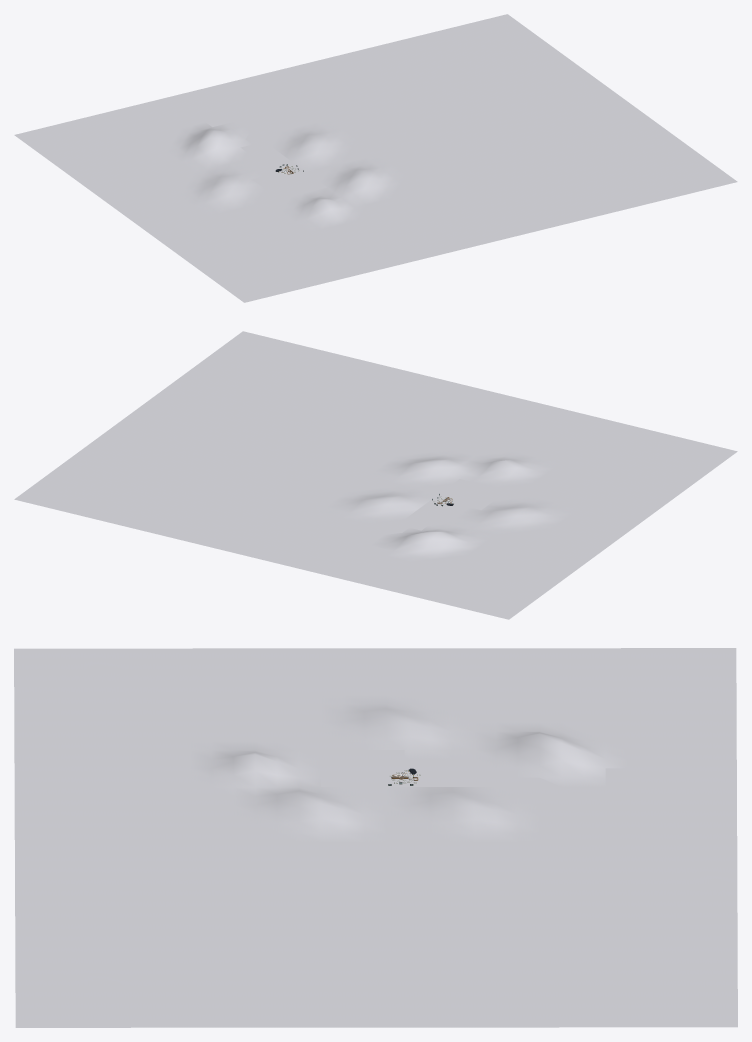
The picture shows the model from 3 angles, top to bottom: view 1: azimuth 30°, elevation 25°; view 2: azimuth 150°, elevation 25°; view 3: azimuth 270°, elevation 25°; orthographic projection. The views are drawn at different scales.
Parts seen in each view (by area): view 1: Frigid_Freezeway-SKP--FF_MainRoad.005; view 2: Frigid_Freezeway-SKP--FF_MainRoad.005; view 3: Frigid_Freezeway-SKP--FF_MainRoad.005.
Part boxes in pixels (<box>): Frigid_Freezeway-SKP--FF_MainRoad.005: <box>14,14,737,302</box>; Frigid_Freezeway-SKP--FF_MainRoad.005: <box>14,331,737,619</box>; Frigid_Freezeway-SKP--FF_MainRoad.005: <box>14,648,737,1027</box>.
Bounding box in the file's own units: 4106068 × 79445 × 3307541.
30 materials, 30 textured.
